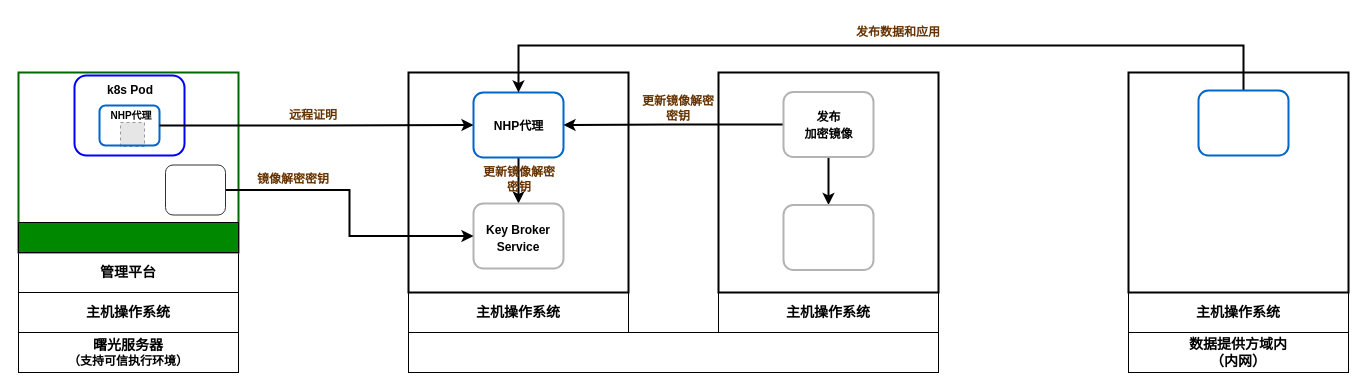
This 1366x390 diagram has some shape labels left out. Grey dashed boxes stand in for pictures. Here are the shapes that lost their labels. From the top down, the centre of each, then its label:
At (x=1243, y=122): "NHP DB".
At (x=195, y=189): "Kata Agent".
At (x=128, y=237): "TEE硬件保护环境".
At (x=828, y=237): "镜像服务".
At (x=673, y=352): "可信平台".
